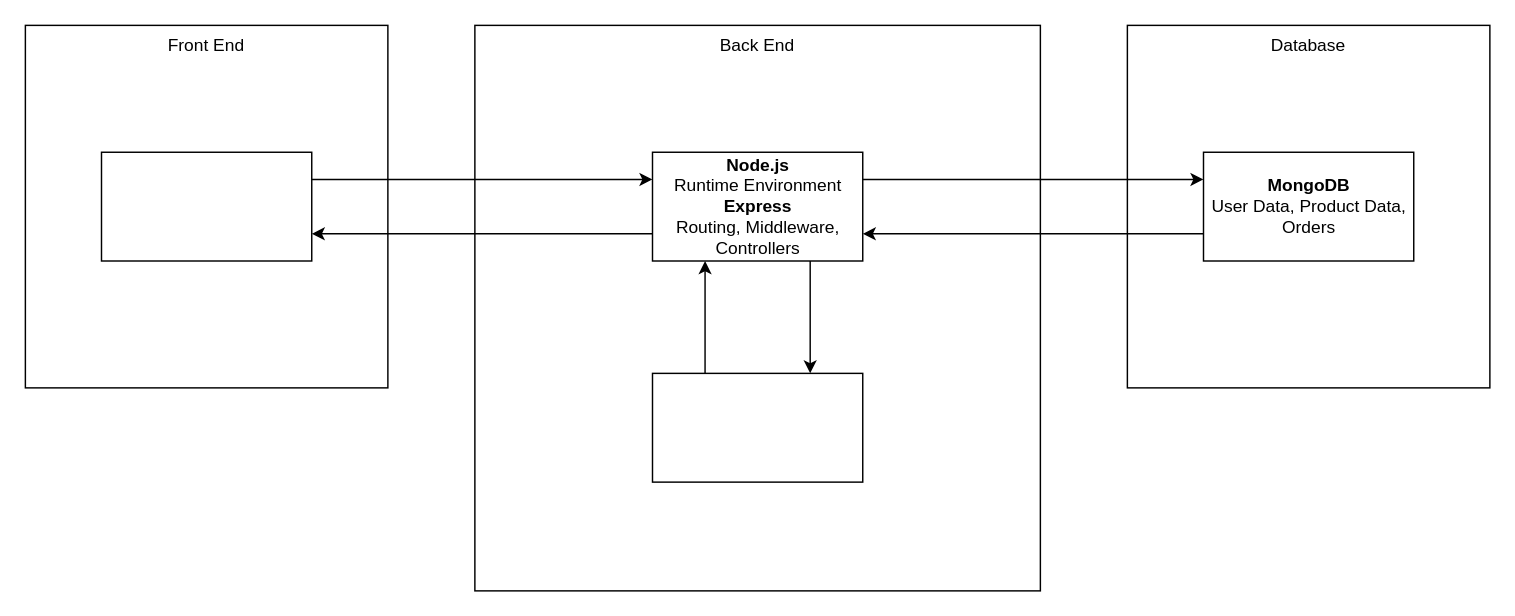
Some shapes in this 1515 by 616 pixel diagram are drawn without their labels. The centre of each missing label's shape, as x and y in pixels:
"Payment Gateway Payment Processing, Authorization" goes at (757,427).
"Web Client React, HTML, CSS, Javascript" goes at (206,206).
